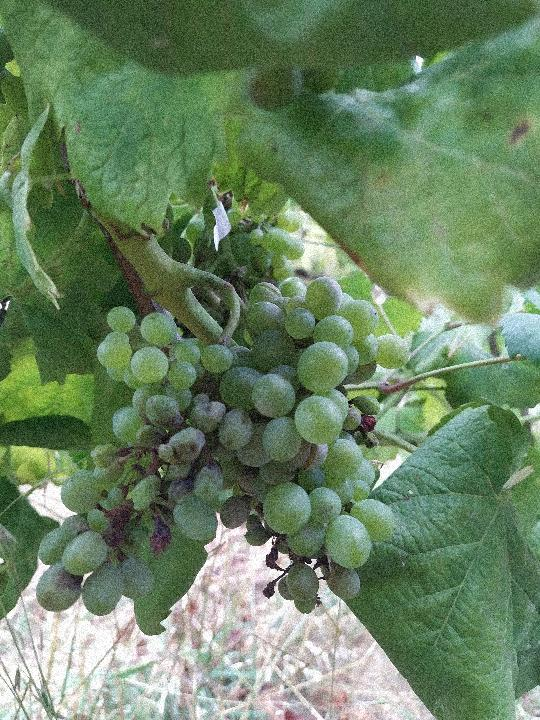grape: (34, 273, 413, 620)
